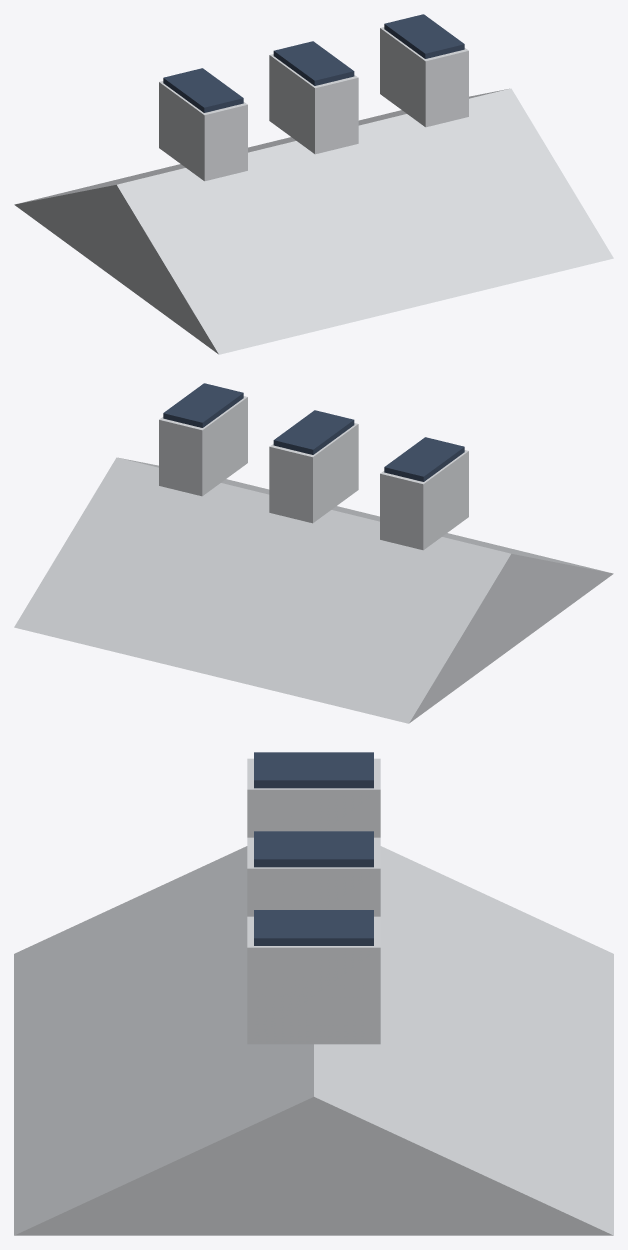
Rendered from warehouse-roof.glb.
The picture shows the model from 3 angles, top to bottom: view 1: azimuth 30°, elevation 25°; view 2: azimuth 150°, elevation 25°; view 3: azimuth 270°, elevation 25°; orthographic projection. The views are drawn at different scales.
Visible parts, largest first — view 1: warehouse-roof; view 2: warehouse-roof; view 3: warehouse-roof.
Part boxes in pixels (left/top/right/bottom): warehouse-roof: left=14, top=14, right=613, bottom=354; warehouse-roof: left=14, top=383, right=613, bottom=723; warehouse-roof: left=14, top=752, right=613, bottom=1235.
Bounding box in the file's own units: 1 × 0.413 × 0.9.
